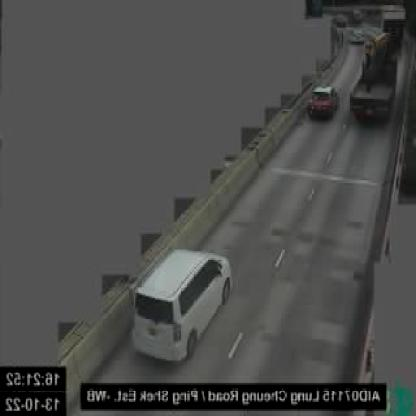Car: (132, 248, 232, 365), (306, 82, 339, 122)
Truck: (350, 31, 398, 123)
